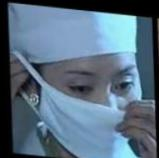WRONG: (43, 55, 146, 158)
